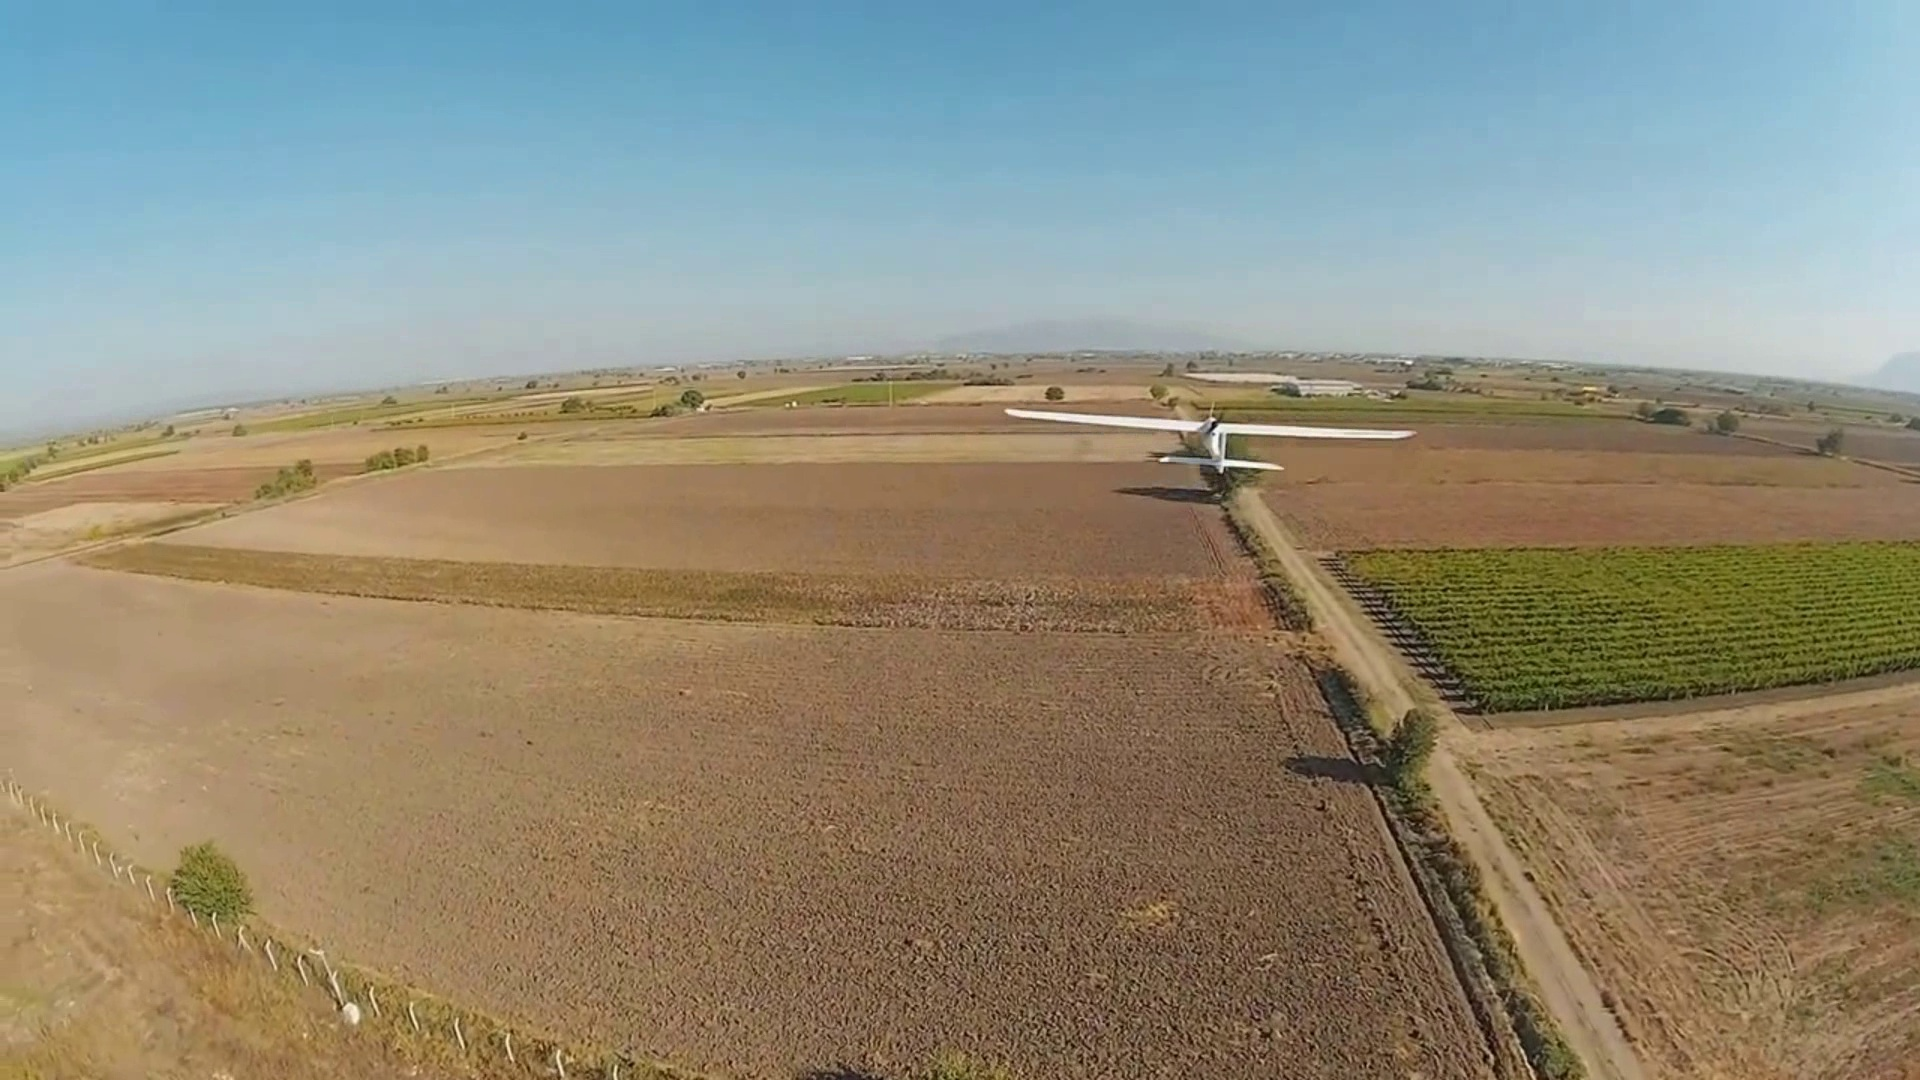airplane: (1004, 402, 1420, 510)
